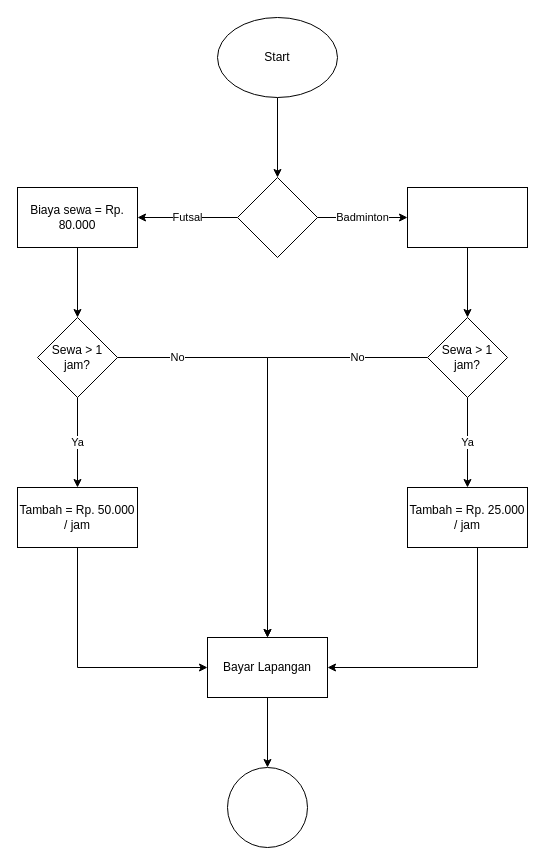
Some shapes in this 545 by 865 pixel diagram are drawn without their labels. The centre of each missing label's shape, as x and y in pixels:
Biaya Sewa = Rp. 40.000: (x=467, y=217)
End: (x=267, y=807)
Jenis lapangan?: (x=277, y=217)
